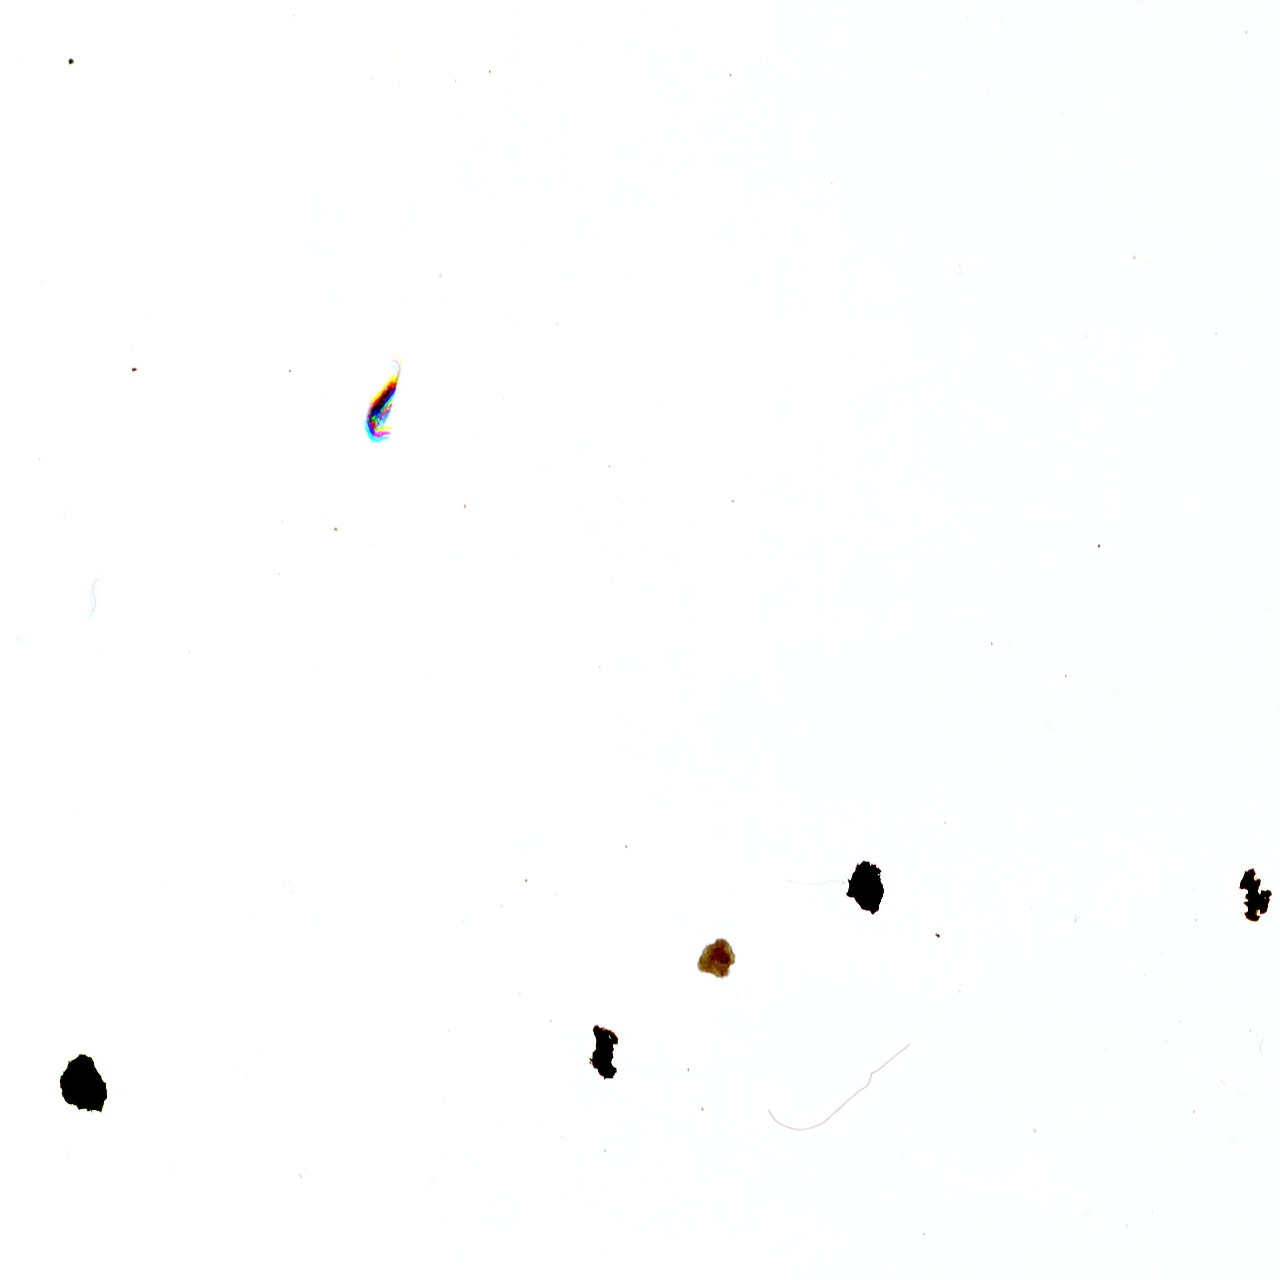arthropod: (360, 349, 407, 447)
